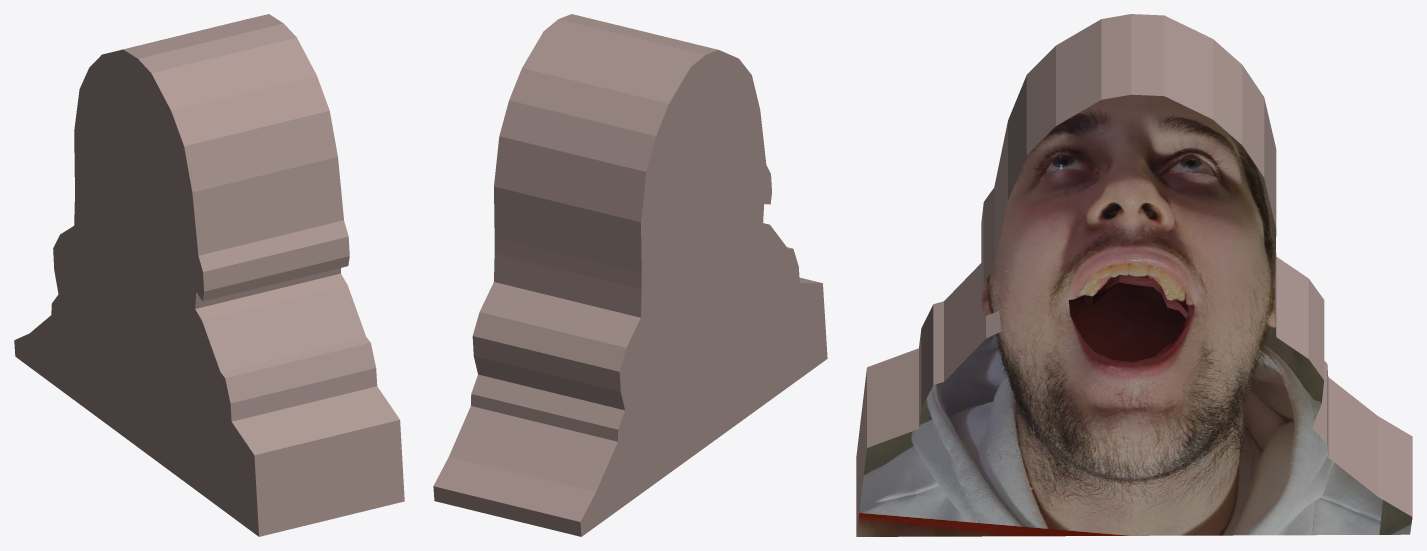
The model's file is Mouth.fbx.
3 views of the same model, side by side, from view 1: azimuth 30°, elevation 25°; view 2: azimuth 150°, elevation 25°; view 3: azimuth 270°, elevation 25° (orthographic). The views are drawn at different scales.
Parts seen in each view (by area): view 1: gleb versionm; view 2: gleb versionm; view 3: gleb versionm.
Part boxes in pixels (left/top/right/bottom): gleb versionm: left=14, top=14, right=404, bottom=536; gleb versionm: left=433, top=14, right=827, bottom=536; gleb versionm: left=856, top=14, right=1412, bottom=536.
Bounding box in the file's own units: 167 × 427 × 486.
